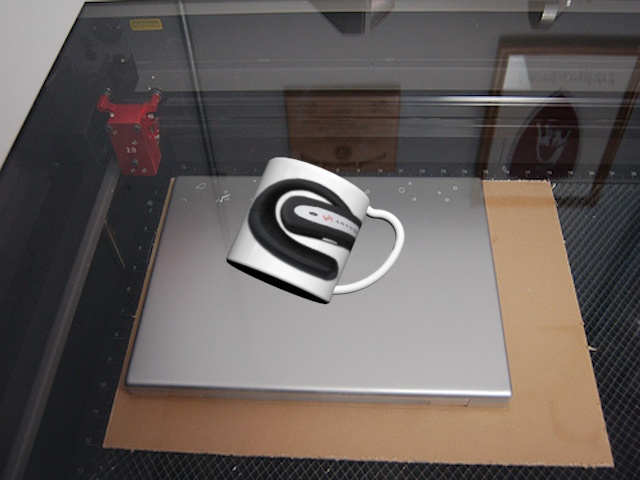mug: (225, 153, 408, 312)
